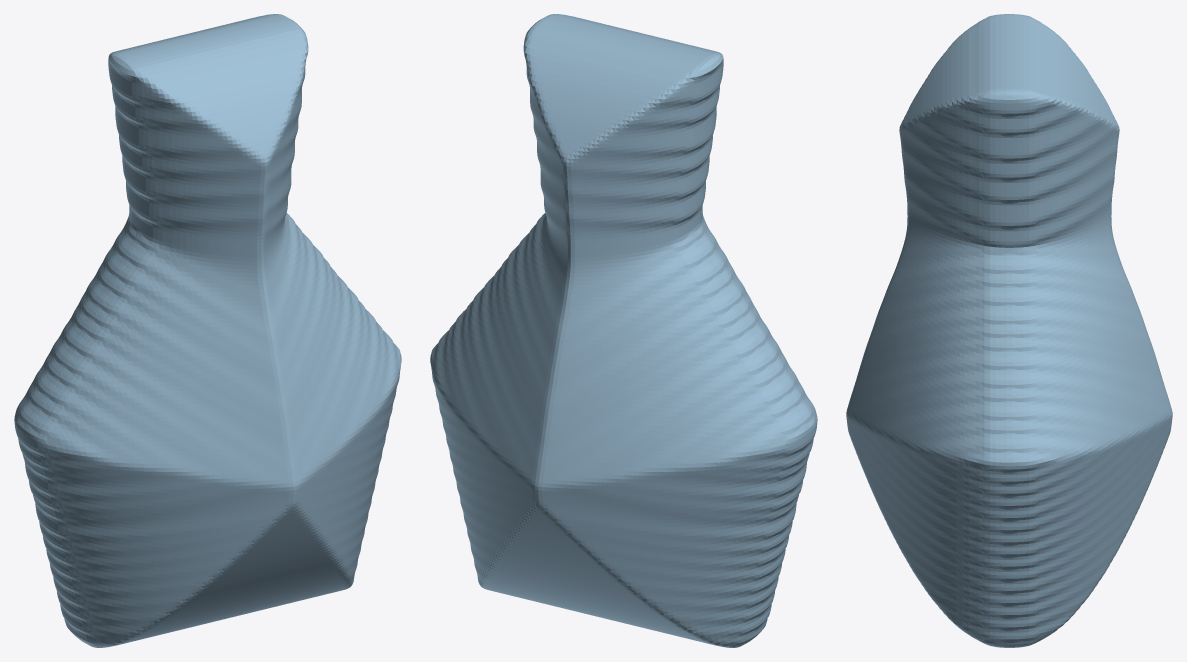
The picture shows the model from 3 angles, left to right: view 1: azimuth 30°, elevation 25°; view 2: azimuth 150°, elevation 25°; view 3: azimuth 270°, elevation 25°; orthographic projection. The views are drawn at different scales.
Parts seen in each view (by area): view 1: world; view 2: world; view 3: world.
Boxes of the visible parts, <box> form: world: <box>14,14,401,647</box>; world: <box>430,14,817,647</box>; world: <box>846,14,1172,647</box>.
Bounding box in the file's own units: 1.34 × 2 × 1.1.
